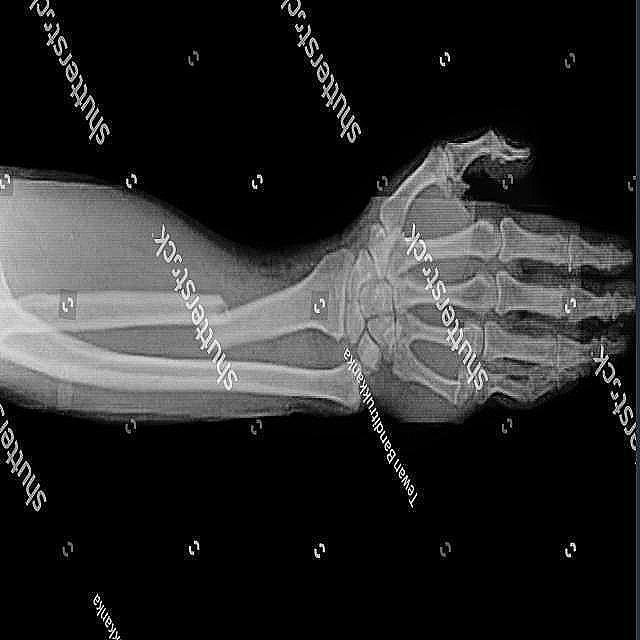bone: (192, 280, 239, 356)
